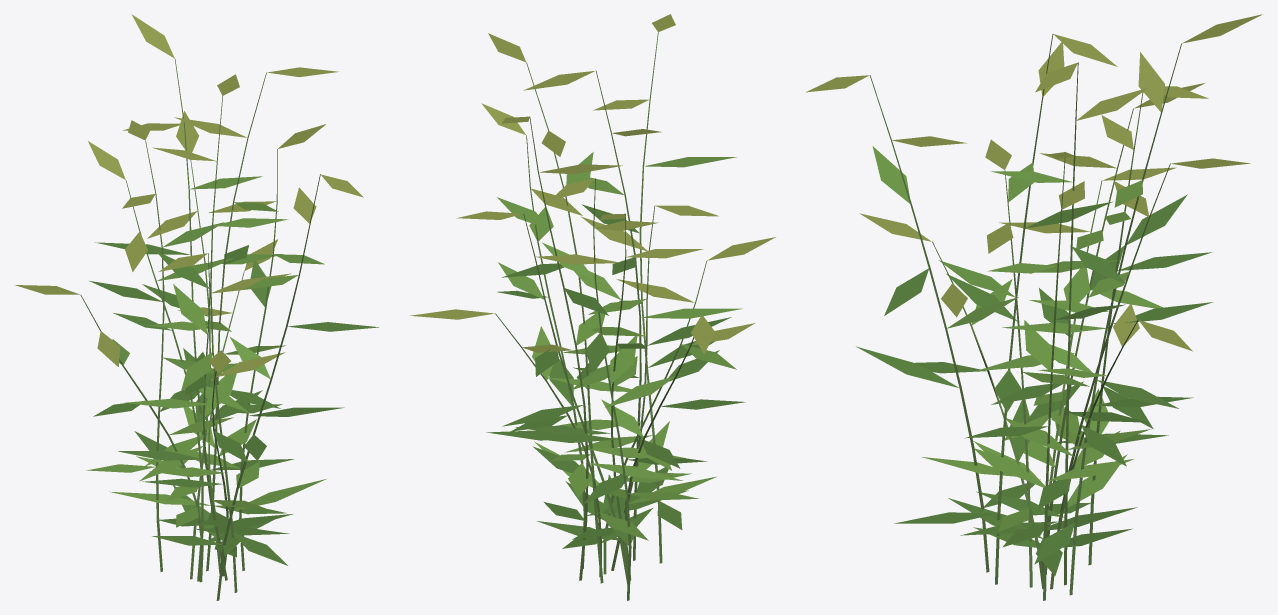
File: pondweed.meshopt.glb
The picture shows the model from 3 angles, left to right: view 1: azimuth 30°, elevation 25°; view 2: azimuth 150°, elevation 25°; view 3: azimuth 270°, elevation 25°; orthographic projection. The views are drawn at different scales.
Visible parts, largest first — view 1: pondweed; view 2: pondweed; view 3: pondweed.
Part boxes in pixels (left/top/right/bottom): pondweed: left=15, top=14, right=378, bottom=600; pondweed: left=410, top=14, right=775, bottom=600; pondweed: left=806, top=14, right=1262, bottom=600.
Size of the model in its own units: 1.47 by 2.56 by 1.85.
